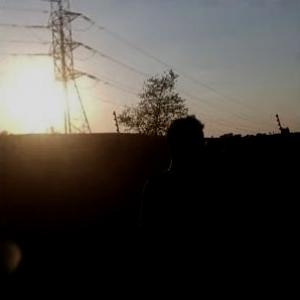follow: (136, 110, 234, 299)
